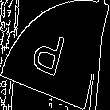P_S: (35, 25, 75, 85)
